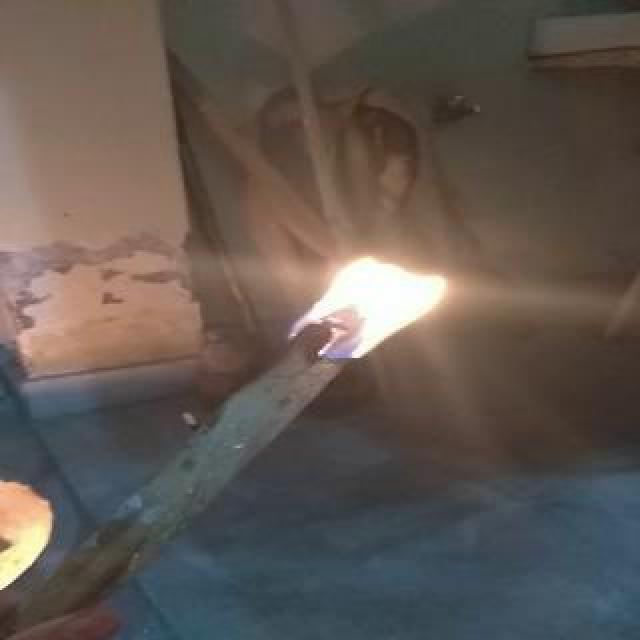Fire: (300, 246, 460, 376)
